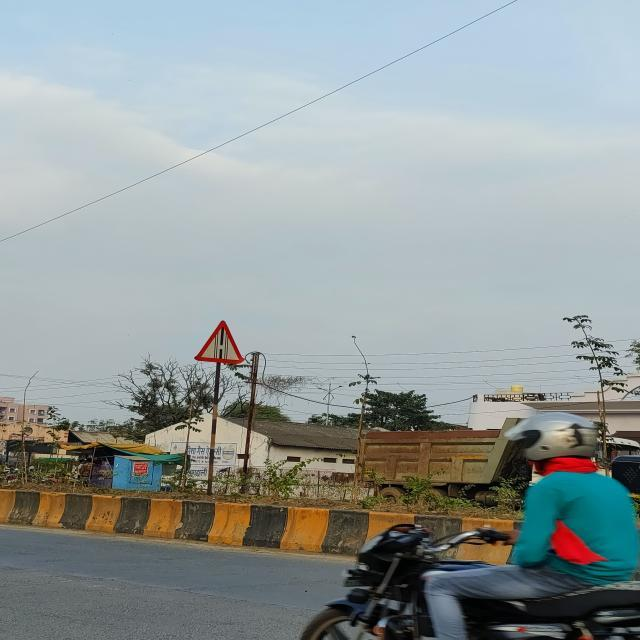gap in median: (193, 321, 248, 366)
